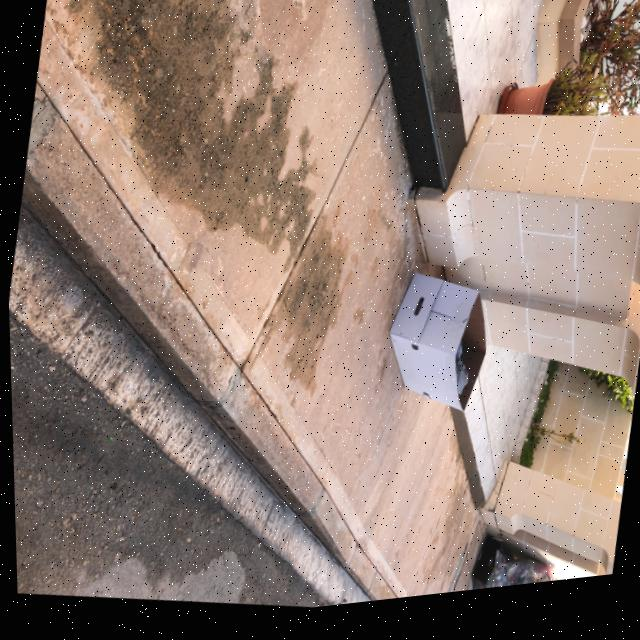Mixed Waste -Black Bag-: (443, 349, 472, 409)
Other: (373, 272, 498, 433), (463, 544, 502, 602)
Recycled Waste -Grey or Green Bag-: (491, 563, 562, 599), (470, 558, 516, 601)
